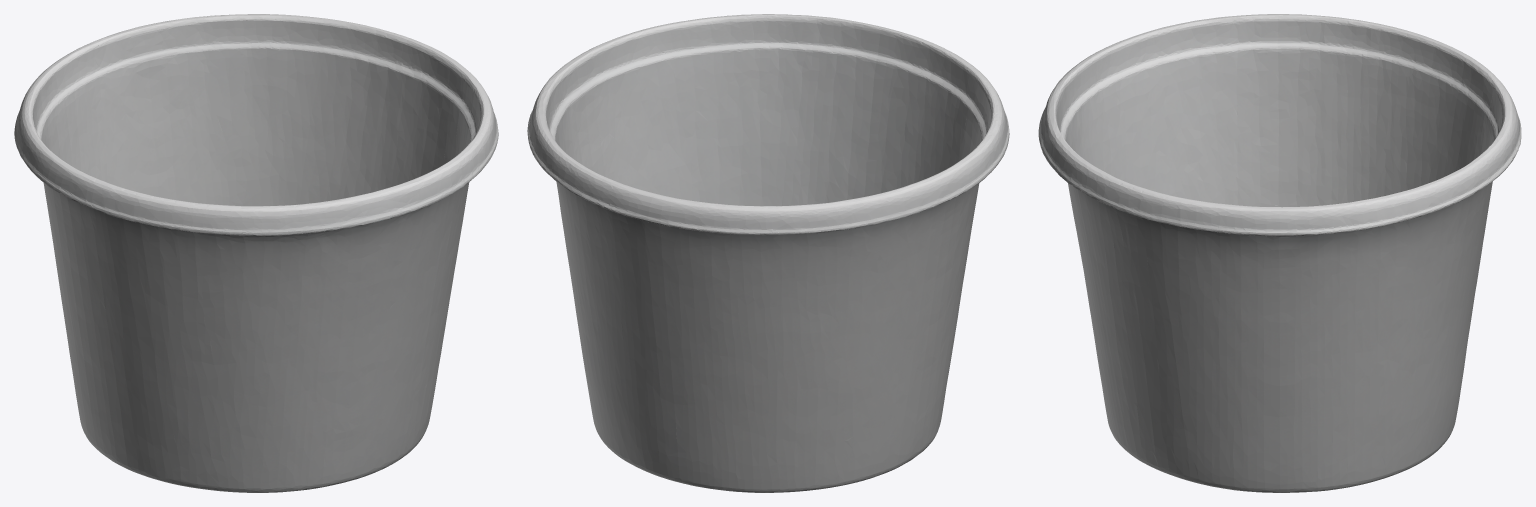
The model's file is tub.glb.
The picture shows the model from 3 angles, left to right: view 1: azimuth 30°, elevation 25°; view 2: azimuth 150°, elevation 25°; view 3: azimuth 270°, elevation 25°; orthographic projection.
Parts seen in each view (by area): view 1: geometry_0; view 2: geometry_0; view 3: geometry_0.
Part boxes in pixels (left/top/right/bottom): geometry_0: left=14, top=14, right=498, bottom=492; geometry_0: left=527, top=14, right=1009, bottom=492; geometry_0: left=1038, top=14, right=1521, bottom=492.
Size of the model in its own units: 0.9986 by 0.7079 by 0.9979.
1 material, 1 textured.
